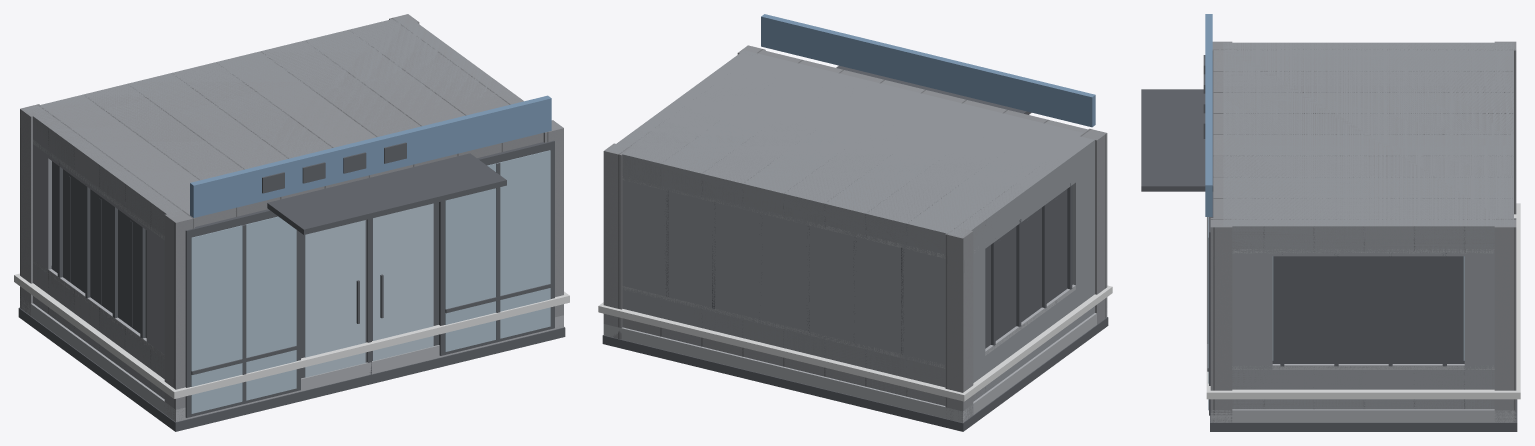
The model's file is neighbor_building.glb.
3 renders of one model, left to right at view 1: azimuth 30°, elevation 25°; view 2: azimuth 150°, elevation 25°; view 3: azimuth 270°, elevation 25°, orthographic. The views are drawn at different scales.
Visible parts, largest first — view 1: bd_mid_wall, bd_base_wall, bd_base_glass, bd_base_frame, bd_base_sign, bd_base_span, bd_mid_span, bd_top_span, bd_mid_frame; view 2: bd_base_wall, bd_mid_wall, bd_base_sign, bd_mid_span, bd_base_frame, bd_top_span, bd_top_wall, bd_mid_frame, bd_base_span; view 3: bd_base_wall, bd_mid_wall, bd_base_frame, bd_base_span, bd_mid_span, bd_top_span, bd_mid_frame, bd_top_wall, bd_base_sign, bd_mid_glass.
Part boxes in pixels (<box>): bd_mid_wall: <box>20,14,563,421</box>; bd_base_wall: <box>18,15,565,431</box>; bd_base_glass: <box>191,150,550,413</box>; bd_base_frame: <box>52,140,554,417</box>; bd_base_sign: <box>190,95,551,217</box>; bd_base_span: <box>267,153,506,234</box>; bd_mid_span: <box>20,139,563,421</box>; bd_top_span: <box>14,273,569,398</box>; bd_mid_frame: <box>51,163,145,338</box>; bd_base_wall: <box>602,50,1108,431</box>; bd_mid_wall: <box>603,45,1107,421</box>; bd_base_sign: <box>761,14,1095,127</box>; bd_mid_span: <box>603,176,1107,422</box>; bd_base_frame: <box>985,185,1072,348</box>; bd_top_span: <box>598,285,1112,401</box>; bd_top_wall: <box>622,318,1001,405</box>; bd_mid_frame: <box>665,183,1072,354</box>; bd_base_span: <box>836,65,1031,114</box>; bd_base_wall: <box>1210,42,1517,431</box>; bd_mid_wall: <box>1210,41,1516,422</box>; bd_base_frame: <box>1203,55,1463,415</box>; bd_base_span: <box>1141,89,1213,191</box>; bd_mid_span: <box>1210,249,1516,422</box>; bd_top_span: <box>1206,203,1520,399</box>; bd_mid_frame: <box>1272,253,1464,366</box>; bd_top_wall: <box>1232,399,1494,409</box>; bd_base_sign: <box>1205,14,1212,216</box>; bd_mid_glass: <box>1272,256,1464,360</box>.
Size of the model in its own units: 5.36 by 3.16 by 4.54.
9 materials, 1 textured.
